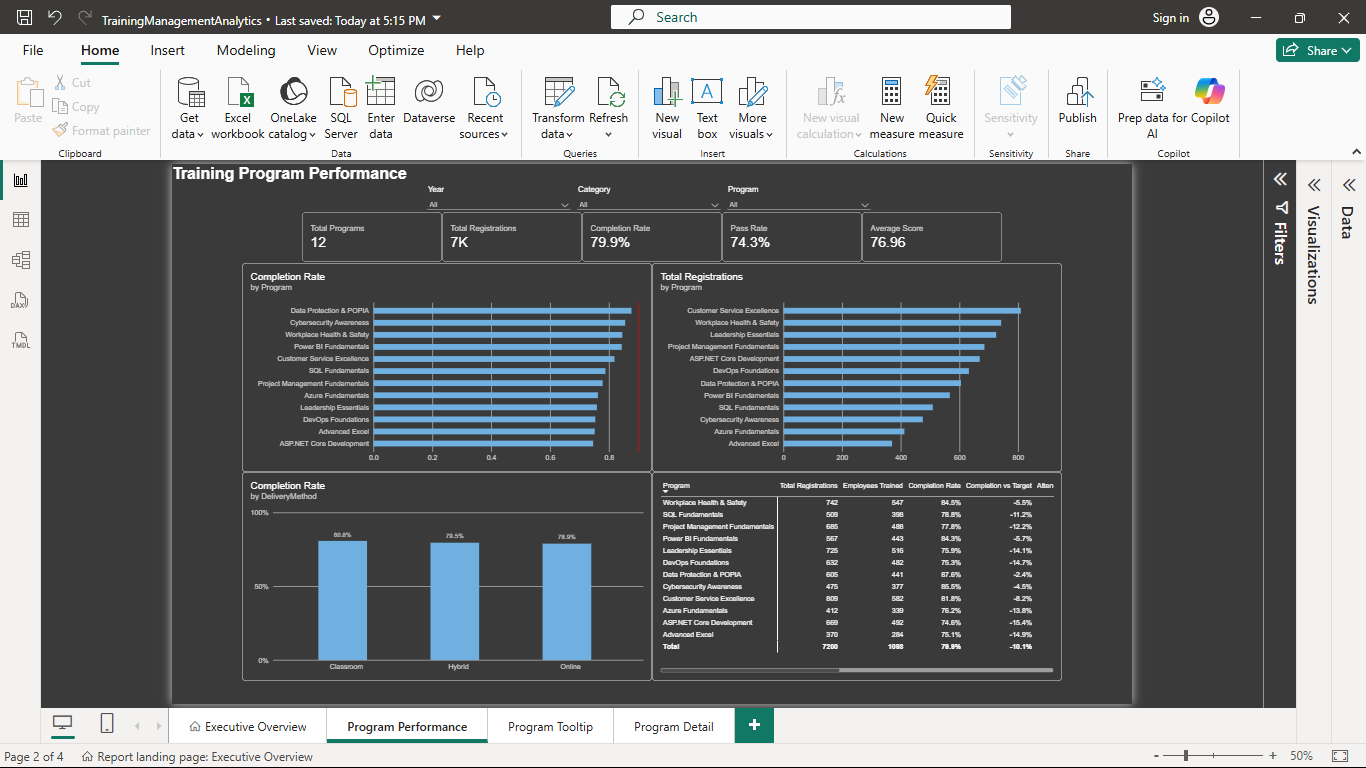

The dashboard page shown, as its layout file describes it:
{"tool":"powerbi","page":{"name":"Program Performance","canvas":[1920,1080],"ordinal":1},"visuals":[{"type":"textbox","box":[0,0,485,41.7],"z":0},{"type":"slicer","fields":{"Values":["DimDate.Year"]},"box":[504.5,42,300,55],"z":0,"group":"g2"},{"type":"cardVisual","fields":{"Data":["FactTraining.Total Programs"]},"box":[260,96.7,280,100],"z":0,"group":"g3"},{"type":"group","id":"g1","title":"Group 3","box":[260,42,1400,156],"z":1000},{"type":"group","id":"g2","title":"Group 1","box":[504.5,42,900,55],"z":1000,"group":"g1"},{"type":"slicer","fields":{"Values":["DimProgram.Category"]},"box":[804.5,42,300,55],"z":1000,"group":"g2"},{"type":"cardVisual","fields":{"Data":["FactTraining.Total Registrations"]},"box":[540,96.7,280,100],"z":1000,"group":"g3"},{"type":"slicer","fields":{"Values":["DimProgram.ProgramName"]},"box":[1104.5,42,300,55],"z":2000,"group":"g2"},{"type":"group","id":"g3","title":"Group 2","box":[260,96.7,1400,100],"z":2000,"group":"g1"},{"type":"cardVisual","fields":{"Data":["FactTraining.Completion Rate"]},"box":[820,96.7,280,100],"z":2000,"group":"g3"},{"type":"clusteredBarChart","fields":{"Category":["DimProgram.ProgramName"],"Y":["FactTraining.Completion Rate"]},"box":[140,198,820,418],"z":2000},{"type":"cardVisual","fields":{"Data":["FactTraining.Pass Rate"]},"box":[1100,96.7,280,100],"z":3000,"group":"g3"},{"type":"clusteredBarChart","fields":{"Category":["DimProgram.ProgramName"],"Y":["FactTraining.Total Registrations"]},"box":[960,198.2,820,418],"z":3000},{"type":"cardVisual","fields":{"Data":["FactTraining.Average Score"]},"box":[1380,96.7,280,100],"z":4000,"group":"g3"},{"type":"pivotTable","fields":{"Rows":["DimProgram.ProgramName"],"Values":["FactTraining.Total Registrations","FactTraining.Employees Trained","FactTraining.Completion Rate","FactTraining.Completion vs Target","FactTraining.Attendance Rate","FactTraining.Pass Rate","FactTraining.Average Score","FactTraining.Total Training Hours","FactTraining.Total Training Cost","FactTraining.Cost per Completion"]},"box":[960,616,820,418],"z":4000},{"type":"clusteredColumnChart","fields":{"Category":["DimTrainingEvent.DeliveryMethod"],"Y":["FactTraining.Completion Rate"]},"box":[140,616,820,418],"z":5000}]}

Visuals, with their boxes on the page's 1920x1080 design canvas (x1, y1, x2, y2). These are canvas units, not pixel positions in the 1366x768 screenshot, which may show the page scaled, cropped or inside an application window:
textbox: [left=0, top=0, right=485, bottom=42]
slicer - DimDate.Year: [left=504, top=42, right=804, bottom=97]
cardVisual - FactTraining.Total Programs: [left=260, top=97, right=540, bottom=197]
"Group 3" group: [left=260, top=42, right=1660, bottom=198]
"Group 1" group: [left=504, top=42, right=1404, bottom=97]
slicer - DimProgram.Category: [left=804, top=42, right=1104, bottom=97]
cardVisual - FactTraining.Total Registrations: [left=540, top=97, right=820, bottom=197]
slicer - DimProgram.ProgramName: [left=1104, top=42, right=1404, bottom=97]
"Group 2" group: [left=260, top=97, right=1660, bottom=197]
cardVisual - FactTraining.Completion Rate: [left=820, top=97, right=1100, bottom=197]
clusteredBarChart - DimProgram.ProgramName x FactTraining.Completion Rate: [left=140, top=198, right=960, bottom=616]
cardVisual - FactTraining.Pass Rate: [left=1100, top=97, right=1380, bottom=197]
clusteredBarChart - DimProgram.ProgramName x FactTraining.Total Registrations: [left=960, top=198, right=1780, bottom=616]
cardVisual - FactTraining.Average Score: [left=1380, top=97, right=1660, bottom=197]
pivotTable - DimProgram.ProgramName x FactTraining.Total Registrations: [left=960, top=616, right=1780, bottom=1034]
clusteredColumnChart - DimTrainingEvent.DeliveryMethod x FactTraining.Completion Rate: [left=140, top=616, right=960, bottom=1034]
